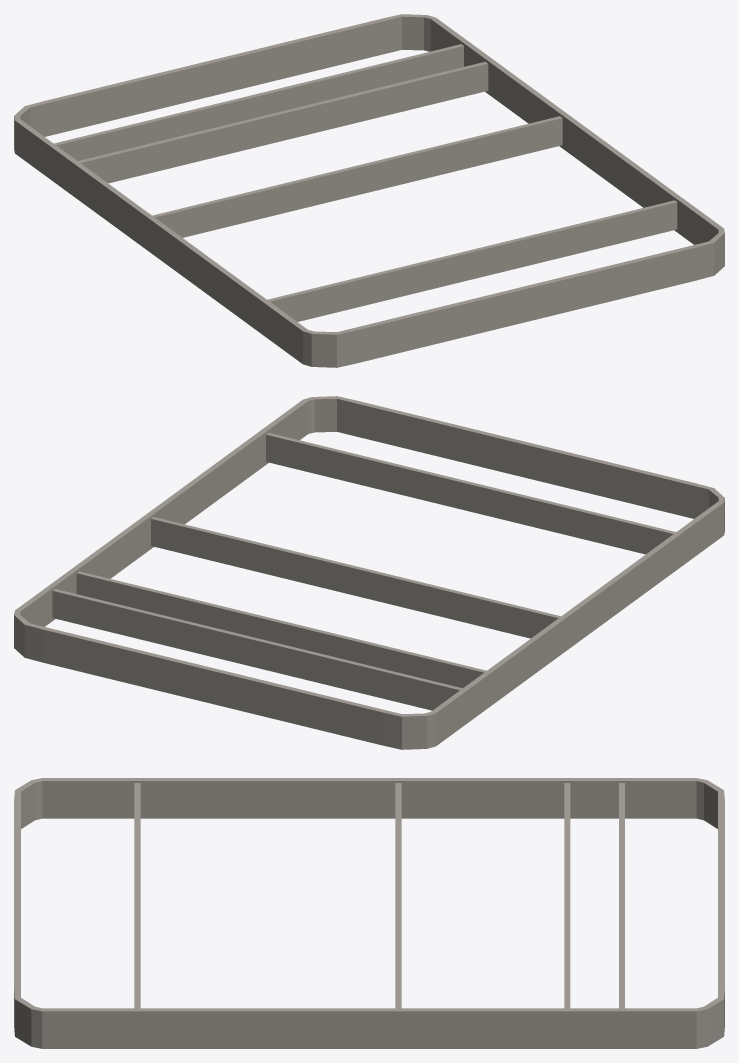
The model's file is metal_frame_03.fbx.
3 renders of one model, top to bottom at view 1: azimuth 30°, elevation 25°; view 2: azimuth 150°, elevation 25°; view 3: azimuth 270°, elevation 25°, orthographic. The views are drawn at different scales.
Visible parts, largest first — view 1: metal_frame_03; view 2: metal_frame_03; view 3: metal_frame_03.
Boxes of the visible parts, x1,y1,x2,y2 form: metal_frame_03: (14,14,724,367); metal_frame_03: (14,396,724,749); metal_frame_03: (14,778,724,1048).
Size of the model in its own units: 100 by 7.54 by 129.
